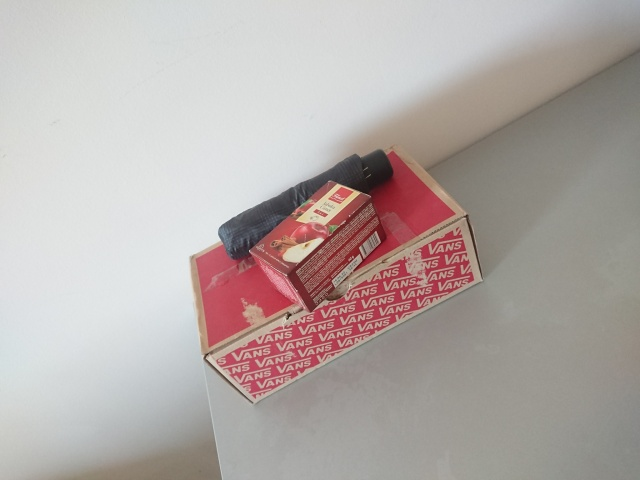Franck Apple Cinnamon Tea 60g: (246, 178, 388, 314)
